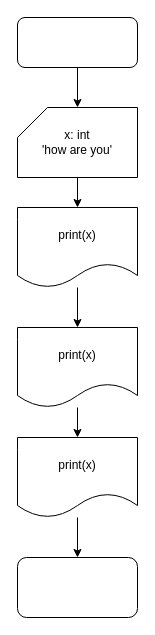
Some shapes in this 155 by 635 pixel diagram are drawn without their labels. The centre of each missing label's shape, as x and y in pixels:
end: the point at 77,587
start: the point at 77,42
